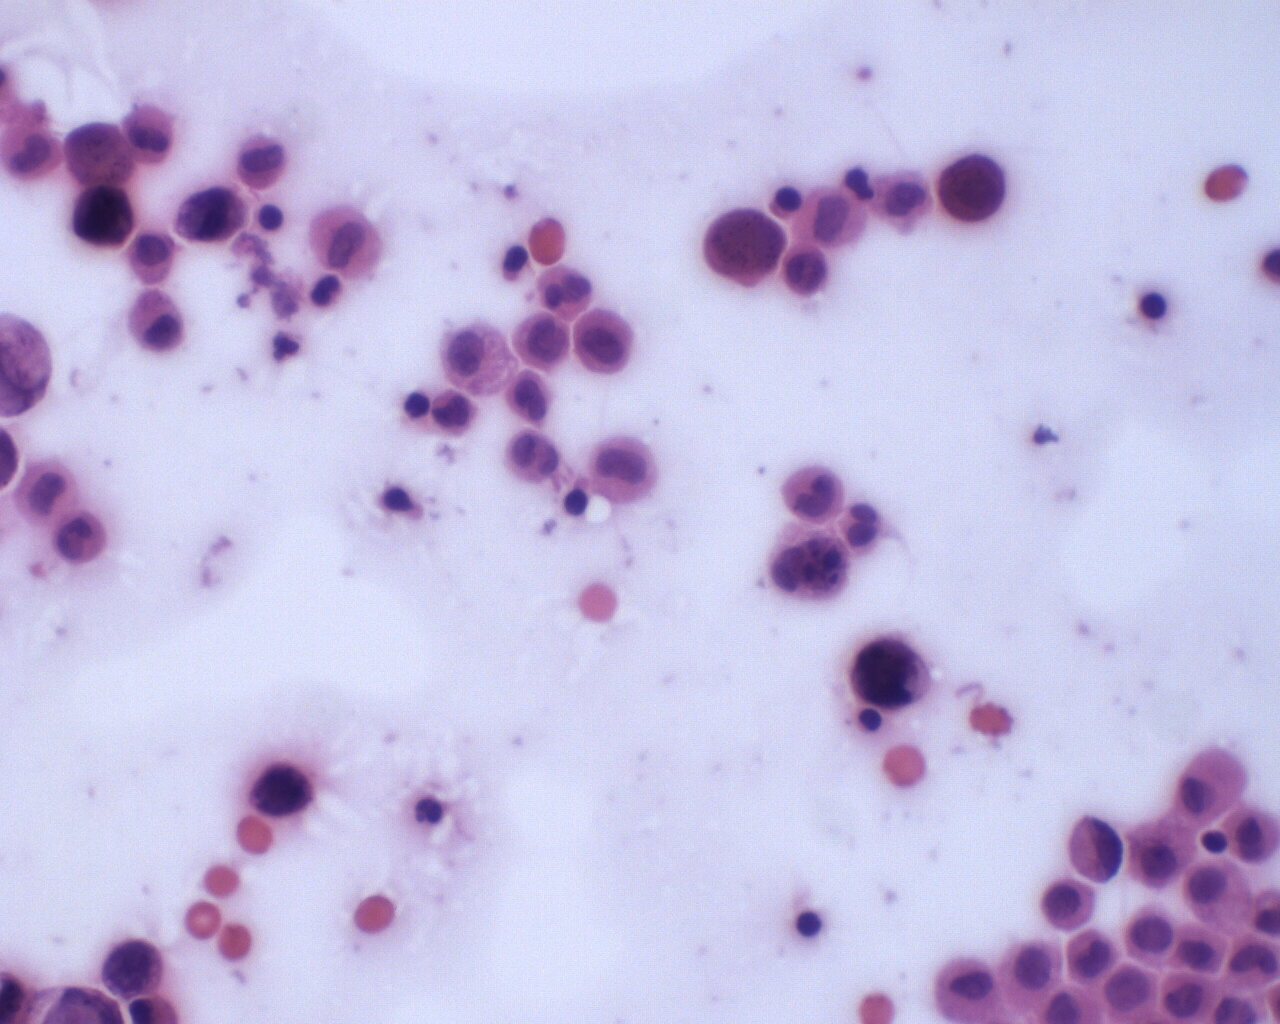ab: (698, 201, 793, 292), (846, 631, 940, 712), (934, 152, 1013, 231), (98, 931, 174, 1005), (65, 185, 139, 251), (246, 759, 319, 824), (571, 307, 639, 375), (513, 311, 573, 376)
lymph: (793, 908, 827, 942), (1136, 288, 1169, 321)
meso: (441, 319, 522, 391), (1126, 815, 1197, 893), (1185, 858, 1257, 932), (933, 953, 1005, 1024), (999, 935, 1067, 1008), (126, 289, 186, 356), (127, 228, 180, 284)
neutro: (408, 792, 446, 832)
